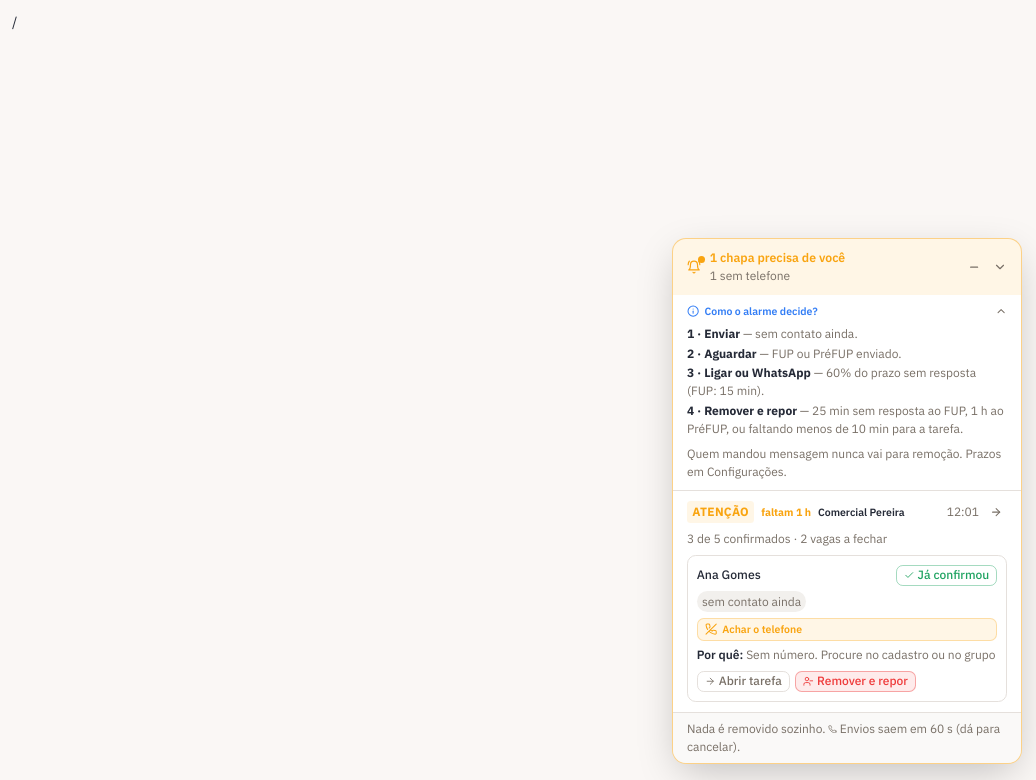
Test case: PainelDeAlarme › 'Abrir tarefa' fora do Dashboard navega com ?flash
The width and height of the screenshot is (1036, 780).
Click the button "Abrir tarefa".
click(743, 681)  # box [697, 671, 790, 692]
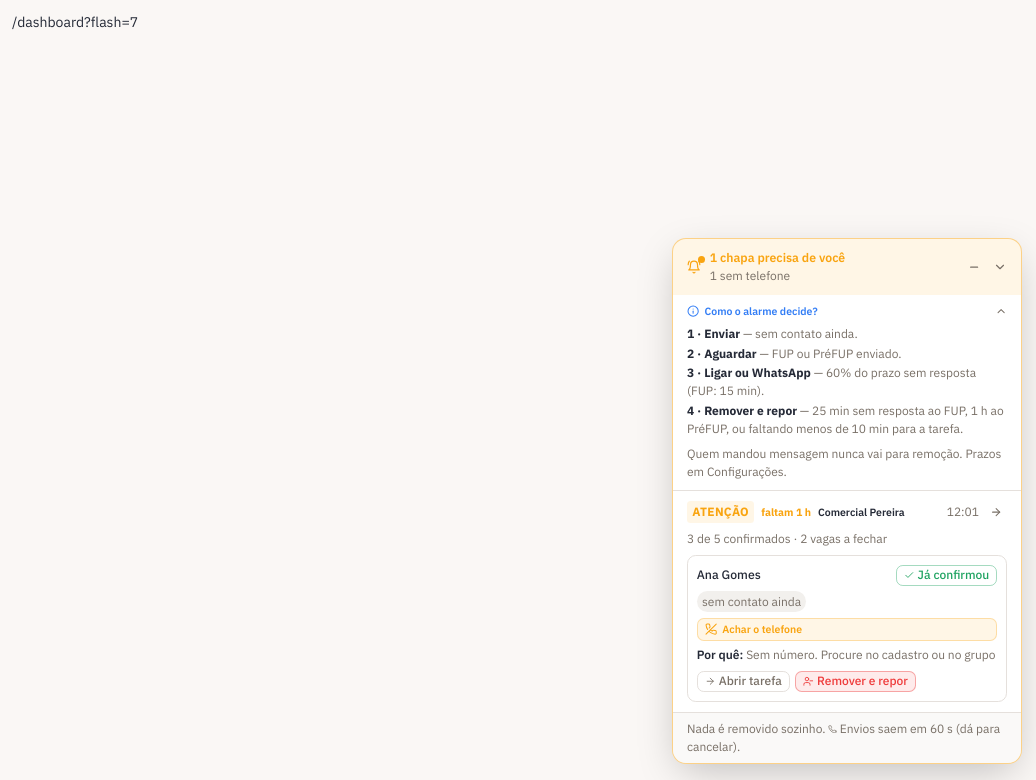
Expected: the text with test id "local" reads "/dashboard?flash=7", [12, 13, 138, 31]
